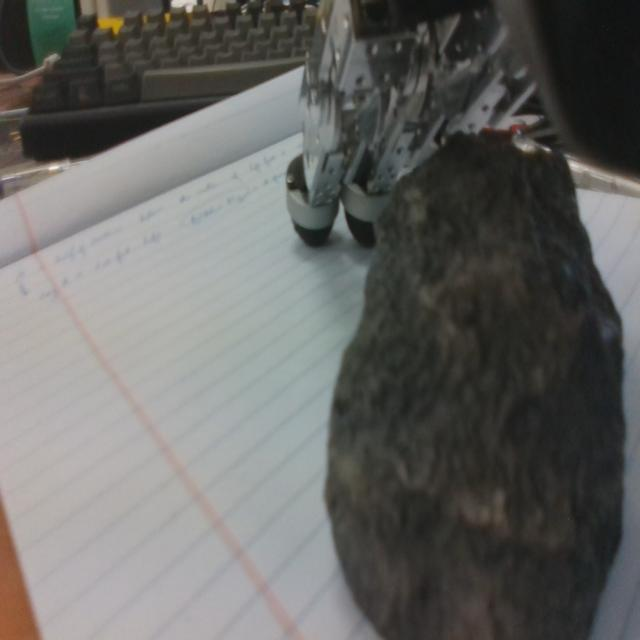stone: (325, 132, 624, 640)
